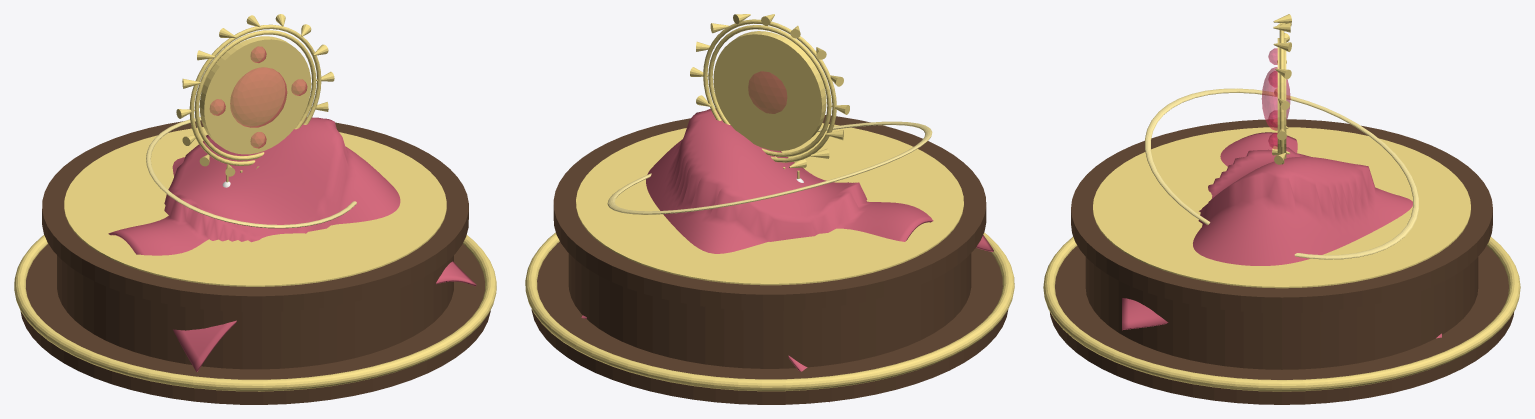
The model's file is vastra_heritage_3d.glb.
3 renders of one model, left to right at view 1: azimuth 30°, elevation 25°; view 2: azimuth 150°, elevation 25°; view 3: azimuth 270°, elevation 25°, orthographic. The views are drawn at different scales.
Visible parts, largest first — view 1: Plinth_GoldMedallion, Flowing_Silk_Saree, Pedestal_Column, Pedestal_Plinth, Pedestal_Base, Pendant_Base, GoldRing_Base, Ruby_Center_Gemstone, Filigree_Ring_0.5, Filigree_Ring_0.46, Silk_Zari_Border; view 2: Plinth_GoldMedallion, Pedestal_Column, Flowing_Silk_Saree, Pedestal_Plinth, Pedestal_Base, Pendant_Base, GoldRing_Base, Silk_Zari_Border, Filigree_Ring_0.46, Filigree_Ring_0.5, Ruby_Center_Gemstone; view 3: Plinth_GoldMedallion, Pedestal_Column, Flowing_Silk_Saree, Pedestal_Plinth, Pedestal_Base, GoldRing_Base, Silk_Zari_Border, Ruby_Center_Gemstone, Filigree_Ring_0.5, Pendant_Base.
Part boxes in pixels (x1=…): Plinth_GoldMedallion: x1=64, y1=127, x2=446, y2=286; Flowing_Silk_Saree: x1=108, y1=117, x2=476, y2=371; Pedestal_Column: x1=57, y1=255, x2=453, y2=369; Pedestal_Plinth: x1=42, y1=120, x2=468, y2=312; Pedestal_Base: x1=20, y1=244, x2=490, y2=404; Pendant_Base: x1=199, y1=36, x2=311, y2=154; GoldRing_Base: x1=14, y1=235, x2=496, y2=391; Ruby_Center_Gemstone: x1=230, y1=67, x2=287, y2=127; Filigree_Ring_0.5: x1=189, y1=24, x2=321, y2=165; Filigree_Ring_0.46: x1=194, y1=30, x2=316, y2=160; Silk_Zari_Border: x1=146, y1=117, x2=356, y2=228; Plinth_GoldMedallion: x1=576, y1=123, x2=963, y2=285; Pedestal_Column: x1=568, y1=253, x2=971, y2=368; Flowing_Silk_Saree: x1=581, y1=108, x2=993, y2=402; Pedestal_Plinth: x1=553, y1=115, x2=986, y2=310; Pedestal_Base: x1=531, y1=241, x2=1007, y2=404; Pendant_Base: x1=713, y1=31, x2=826, y2=150; GoldRing_Base: x1=525, y1=232, x2=1014, y2=391; Silk_Zari_Border: x1=607, y1=121, x2=932, y2=214; Filigree_Ring_0.46: x1=708, y1=25, x2=831, y2=156; Filigree_Ring_0.5: x1=703, y1=19, x2=836, y2=162; Ruby_Center_Gemstone: x1=748, y1=71, x2=786, y2=113; Plinth_GoldMedallion: x1=1093, y1=127, x2=1470, y2=288; Pedestal_Column: x1=1085, y1=257, x2=1478, y2=369; Flowing_Silk_Saree: x1=1122, y1=132, x2=1441, y2=338; Pedestal_Plinth: x1=1071, y1=119, x2=1492, y2=313; Pedestal_Base: x1=1050, y1=245, x2=1513, y2=404; GoldRing_Base: x1=1043, y1=236, x2=1520, y2=391; Silk_Zari_Border: x1=1145, y1=88, x2=1418, y2=259; Ruby_Center_Gemstone: x1=1261, y1=67, x2=1290, y2=130; Filigree_Ring_0.5: x1=1279, y1=24, x2=1284, y2=164; Pendant_Base: x1=1277, y1=38, x2=1286, y2=158.
Size of the model in its own units: 3.28 by 2.18 by 3.28.
